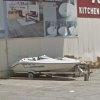Boat: (6, 52, 93, 81)
